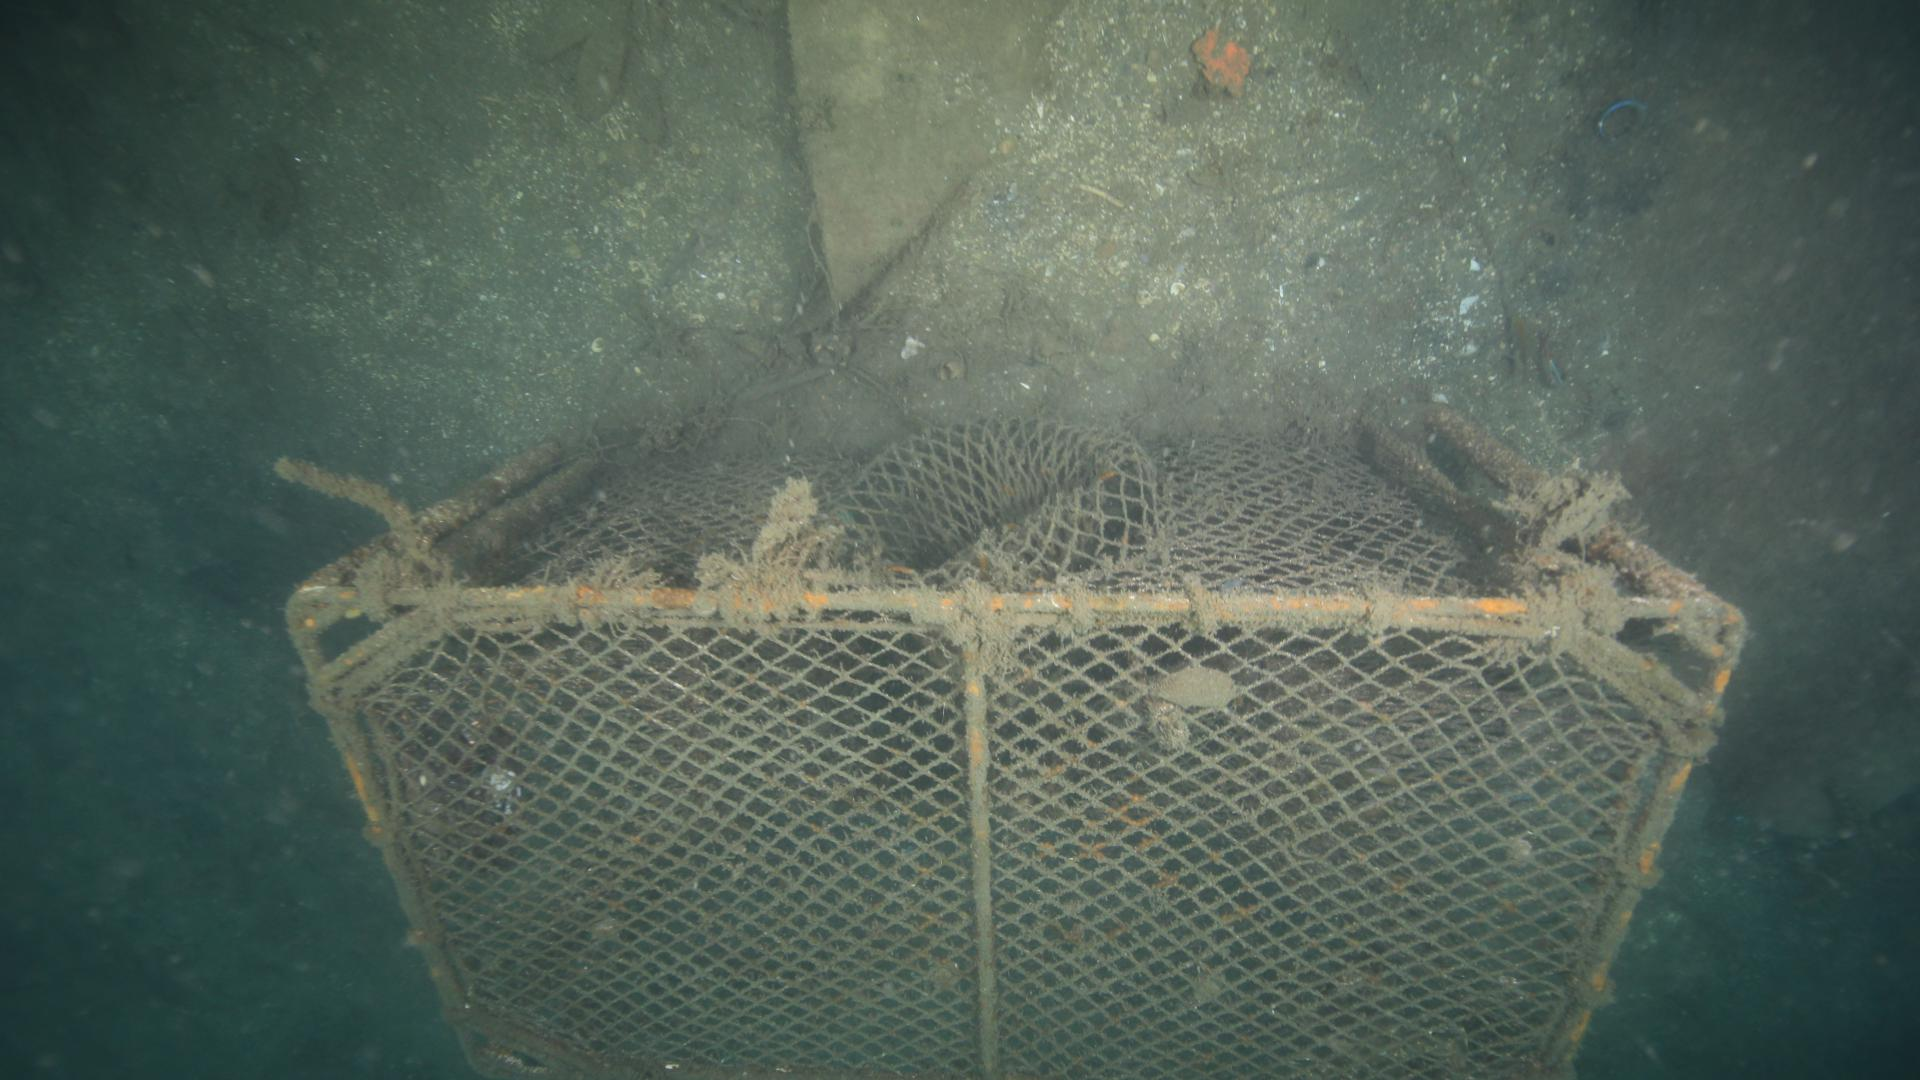rectangular fish trap: (272, 414, 1743, 1080)
